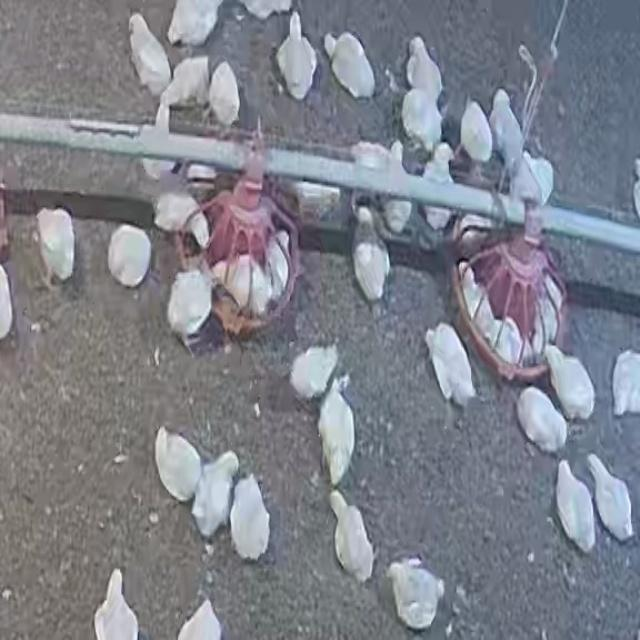chicken: (192, 450, 240, 538), (551, 460, 596, 551), (388, 558, 444, 630), (210, 254, 273, 318), (318, 378, 356, 484), (544, 345, 596, 421), (328, 492, 372, 580), (426, 324, 474, 404), (166, 268, 214, 346), (351, 204, 390, 300), (275, 13, 318, 100), (590, 454, 632, 542), (230, 475, 271, 562), (128, 13, 172, 93), (416, 146, 456, 234), (154, 427, 200, 502), (153, 184, 209, 243), (517, 386, 566, 452), (482, 312, 535, 373), (94, 570, 139, 640), (380, 141, 415, 231), (36, 205, 76, 283), (530, 269, 567, 353), (328, 31, 374, 98), (290, 344, 340, 402), (107, 224, 153, 287), (489, 89, 522, 172), (401, 88, 442, 153), (140, 104, 174, 182), (160, 57, 207, 113), (406, 35, 444, 102), (167, 0, 222, 46), (265, 230, 299, 304), (459, 260, 493, 332), (460, 97, 493, 165), (209, 61, 243, 125), (610, 349, 640, 415)
